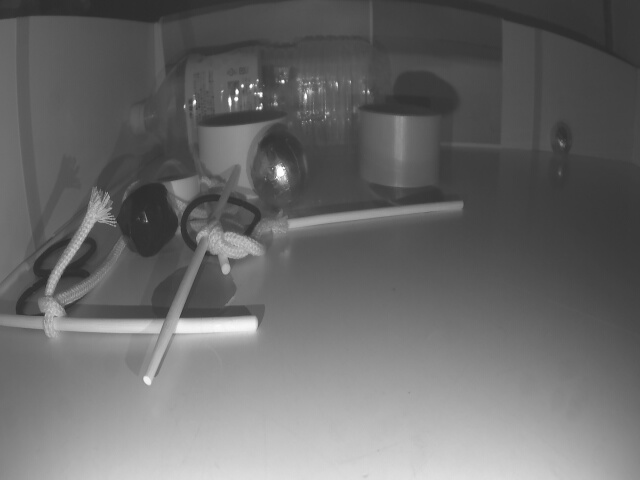Dead: (120, 189, 178, 251)
Live: (253, 131, 307, 203), (553, 130, 571, 155)
